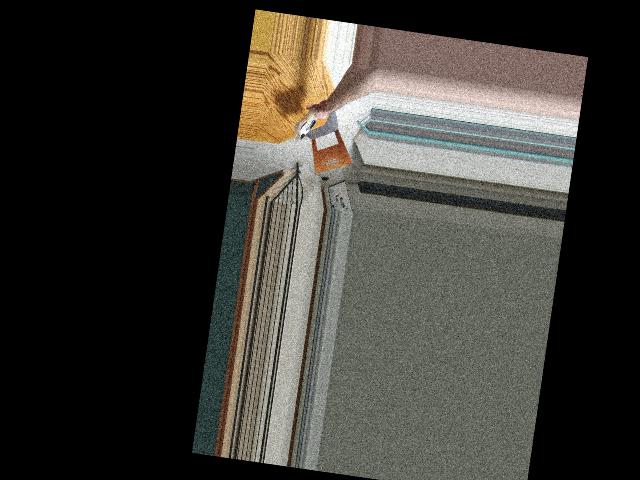cheese: (292, 104, 321, 142)
